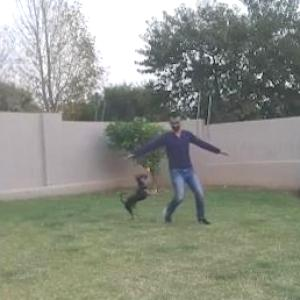land: (118, 112, 224, 236)
